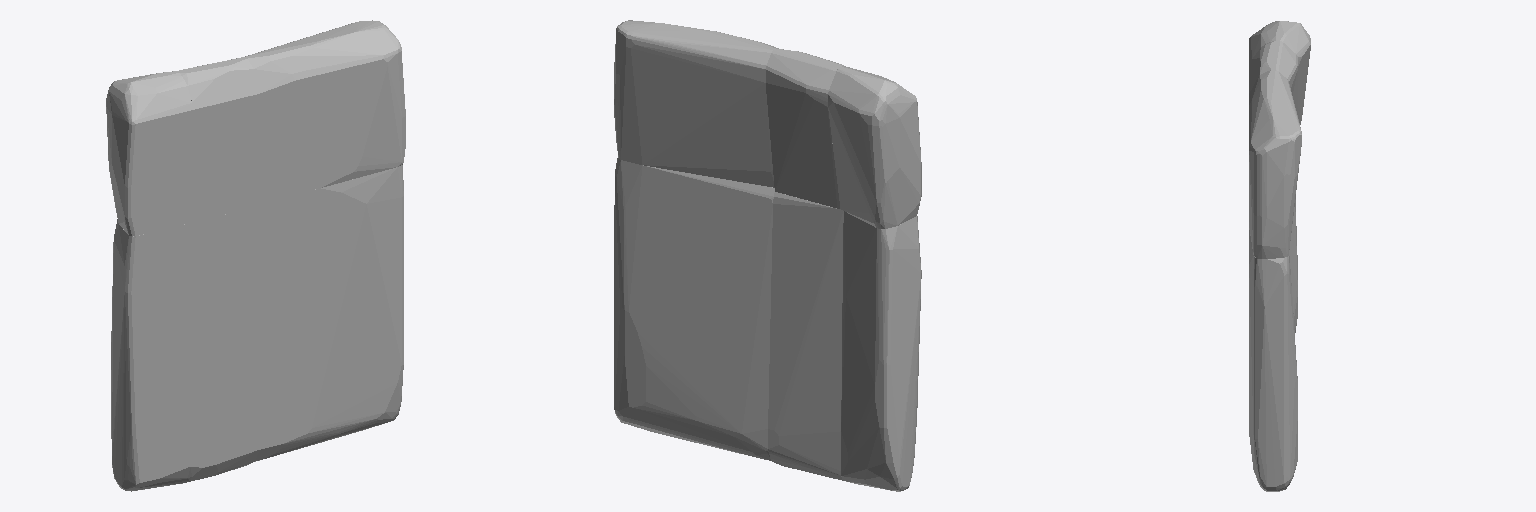
robot.urdf — root:
<robot name="root">
  <link name="link_coacd_convex_piece_0">
    <inertial>
      <origin xyz="0 0 0" rpy="0 0 0"/>
      <inertia ixx="1.05E-02" ixy="-4.82E-03" ixz="6.26E-04" iyy="7.26E-03" iyz="6.45E-04" izz="1.76E-02"/>
    </inertial>
    <visual>
      <origin xyz="0 0 0" rpy="0 0 0"/>
      <geometry>
        <mesh filename="coacd_convex_piece_0.obj" scale="1.0000E+00 1.0000E+00 1.0000E+00"/>
      </geometry>
      <material name="">
        <color rgba="7.50E-01 7.50E-01 7.50E-01 1"/>
      </material>
    </visual>
    <collision>
      <origin xyz="0 0 0" rpy="0 0 0"/>
      <geometry>
        <mesh filename="coacd_convex_piece_0.obj" scale="1.0000E+00 1.0000E+00 1.0000E+00"/>
      </geometry>
    </collision>
  </link>
  <link name="link_coacd_convex_piece_1">
    <inertial>
      <origin xyz="0 0 0" rpy="0 0 0"/>
      <inertia ixx="1.09E-02" ixy="5.18E-03" ixz="3.09E-04" iyy="3.81E-03" iyz="-6.12E-04" izz="1.46E-02"/>
    </inertial>
    <visual>
      <origin xyz="0 0 0" rpy="0 0 0"/>
      <geometry>
        <mesh filename="coacd_convex_piece_1.obj" scale="1.0000E+00 1.0000E+00 1.0000E+00"/>
      </geometry>
      <material name="">
        <color rgba="7.50E-01 7.50E-01 7.50E-01 1"/>
      </material>
    </visual>
    <collision>
      <origin xyz="0 0 0" rpy="0 0 0"/>
      <geometry>
        <mesh filename="coacd_convex_piece_1.obj" scale="1.0000E+00 1.0000E+00 1.0000E+00"/>
      </geometry>
    </collision>
  </link>
  <joint name="link_coacd_convex_piece_1_joint" type="fixed">
    <origin xyz="0 0 0" rpy="0 0 0"/>
    <parent link="link_coacd_convex_piece_0"/>
    <child link="link_coacd_convex_piece_1"/>
  </joint>
  <link name="link_coacd_convex_piece_2">
    <inertial>
      <origin xyz="0 0 0" rpy="0 0 0"/>
      <inertia ixx="4.22E-03" ixy="1.29E-03" ixz="-2.75E-04" iyy="1.06E-03" iyz="4.11E-04" izz="5.16E-03"/>
    </inertial>
    <visual>
      <origin xyz="0 0 0" rpy="0 0 0"/>
      <geometry>
        <mesh filename="coacd_convex_piece_2.obj" scale="1.0000E+00 1.0000E+00 1.0000E+00"/>
      </geometry>
      <material name="">
        <color rgba="7.50E-01 7.50E-01 7.50E-01 1"/>
      </material>
    </visual>
    <collision>
      <origin xyz="0 0 0" rpy="0 0 0"/>
      <geometry>
        <mesh filename="coacd_convex_piece_2.obj" scale="1.0000E+00 1.0000E+00 1.0000E+00"/>
      </geometry>
    </collision>
  </link>
  <joint name="link_coacd_convex_piece_2_joint" type="fixed">
    <origin xyz="0 0 0" rpy="0 0 0"/>
    <parent link="link_coacd_convex_piece_1"/>
    <child link="link_coacd_convex_piece_2"/>
  </joint>
  <link name="link_coacd_convex_piece_3">
    <inertial>
      <origin xyz="0 0 0" rpy="0 0 0"/>
      <inertia ixx="4.28E-03" ixy="3.32E-03" ixz="-5.20E-04" iyy="5.95E-03" iyz="3.20E-04" izz="1.01E-02"/>
    </inertial>
    <visual>
      <origin xyz="0 0 0" rpy="0 0 0"/>
      <geometry>
        <mesh filename="coacd_convex_piece_3.obj" scale="1.0000E+00 1.0000E+00 1.0000E+00"/>
      </geometry>
      <material name="">
        <color rgba="7.50E-01 7.50E-01 7.50E-01 1"/>
      </material>
    </visual>
    <collision>
      <origin xyz="0 0 0" rpy="0 0 0"/>
      <geometry>
        <mesh filename="coacd_convex_piece_3.obj" scale="1.0000E+00 1.0000E+00 1.0000E+00"/>
      </geometry>
    </collision>
  </link>
  <joint name="link_coacd_convex_piece_3_joint" type="fixed">
    <origin xyz="0 0 0" rpy="0 0 0"/>
    <parent link="link_coacd_convex_piece_2"/>
    <child link="link_coacd_convex_piece_3"/>
  </joint>
  <link name="link_coacd_convex_piece_4">
    <inertial>
      <origin xyz="0 0 0" rpy="0 0 0"/>
      <inertia ixx="4.51E-03" ixy="-1.42E-03" ixz="-1.13E-04" iyy="5.92E-04" iyz="-3.09E-04" izz="5.06E-03"/>
    </inertial>
    <visual>
      <origin xyz="0 0 0" rpy="0 0 0"/>
      <geometry>
        <mesh filename="coacd_convex_piece_4.obj" scale="1.0000E+00 1.0000E+00 1.0000E+00"/>
      </geometry>
      <material name="">
        <color rgba="7.50E-01 7.50E-01 7.50E-01 1"/>
      </material>
    </visual>
    <collision>
      <origin xyz="0 0 0" rpy="0 0 0"/>
      <geometry>
        <mesh filename="coacd_convex_piece_4.obj" scale="1.0000E+00 1.0000E+00 1.0000E+00"/>
      </geometry>
    </collision>
  </link>
  <joint name="link_coacd_convex_piece_4_joint" type="fixed">
    <origin xyz="0 0 0" rpy="0 0 0"/>
    <parent link="link_coacd_convex_piece_3"/>
    <child link="link_coacd_convex_piece_4"/>
  </joint>
  <link name="link_coacd_convex_piece_5">
    <inertial>
      <origin xyz="0 0 0" rpy="0 0 0"/>
      <inertia ixx="5.38E-03" ixy="-4.23E-03" ixz="-1.70E-04" iyy="3.74E-03" iyz="-1.61E-04" izz="9.07E-03"/>
    </inertial>
    <visual>
      <origin xyz="0 0 0" rpy="0 0 0"/>
      <geometry>
        <mesh filename="coacd_convex_piece_5.obj" scale="1.0000E+00 1.0000E+00 1.0000E+00"/>
      </geometry>
      <material name="">
        <color rgba="7.50E-01 7.50E-01 7.50E-01 1"/>
      </material>
    </visual>
    <collision>
      <origin xyz="0 0 0" rpy="0 0 0"/>
      <geometry>
        <mesh filename="coacd_convex_piece_5.obj" scale="1.0000E+00 1.0000E+00 1.0000E+00"/>
      </geometry>
    </collision>
  </link>
  <joint name="link_coacd_convex_piece_5_joint" type="fixed">
    <origin xyz="0 0 0" rpy="0 0 0"/>
    <parent link="link_coacd_convex_piece_4"/>
    <child link="link_coacd_convex_piece_5"/>
  </joint>
</robot>

--- Facts derived from the render (not from the file) ---
The picture shows the robot from 3 angles, left to right: view 1: azimuth 30°, elevation 25°; view 2: azimuth 150°, elevation 25°; view 3: azimuth 270°, elevation 25°; orthographic projection.
Robot: root — 6 links, 5 joints (5 fixed); root link link_coacd_convex_piece_0; default pose: all joints at 0.
Links seen in each view (by area): view 1: link_coacd_convex_piece_0, link_coacd_convex_piece_1, link_coacd_convex_piece_3, link_coacd_convex_piece_2, link_coacd_convex_piece_5, link_coacd_convex_piece_4; view 2: link_coacd_convex_piece_0, link_coacd_convex_piece_1, link_coacd_convex_piece_3, link_coacd_convex_piece_2, link_coacd_convex_piece_5, link_coacd_convex_piece_4; view 3: link_coacd_convex_piece_0, link_coacd_convex_piece_1, link_coacd_convex_piece_5, link_coacd_convex_piece_4, link_coacd_convex_piece_3.
Link boxes in pixels (x1,y1,x2,y2): link_coacd_convex_piece_0: [255, 165, 403, 461]; link_coacd_convex_piece_1: [245, 20, 405, 202]; link_coacd_convex_piece_3: [111, 219, 190, 491]; link_coacd_convex_piece_2: [185, 206, 258, 482]; link_coacd_convex_piece_5: [106, 71, 193, 236]; link_coacd_convex_piece_4: [177, 57, 258, 221]; link_coacd_convex_piece_0: [614, 158, 774, 460]; link_coacd_convex_piece_1: [614, 20, 778, 187]; link_coacd_convex_piece_3: [841, 211, 921, 491]; link_coacd_convex_piece_2: [768, 192, 843, 480]; link_coacd_convex_piece_5: [828, 66, 921, 228]; link_coacd_convex_piece_4: [766, 48, 843, 208]; link_coacd_convex_piece_0: [1249, 230, 1297, 491]; link_coacd_convex_piece_1: [1249, 70, 1301, 258]; link_coacd_convex_piece_5: [1249, 21, 1310, 124]; link_coacd_convex_piece_4: [1249, 41, 1297, 95]; link_coacd_convex_piece_3: [1289, 199, 1297, 332].
Bounding box of the posed robot: 1.2 × 0.2474 × 1.63 m (x, y, z).
6 mesh visuals loaded from 6 distinct referenced files (6 OBJ).
